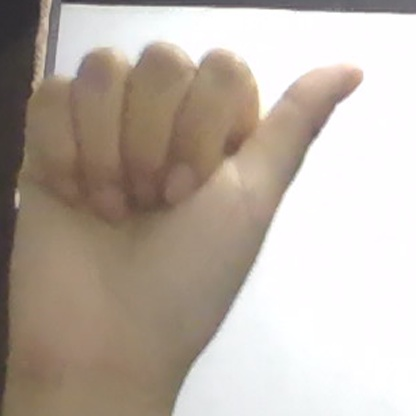A: (9, 43, 362, 388)
